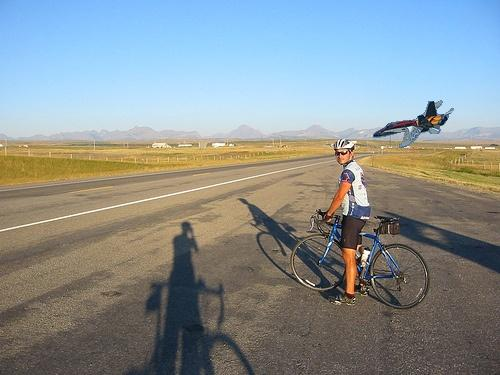tampered: (374, 101, 454, 148)
